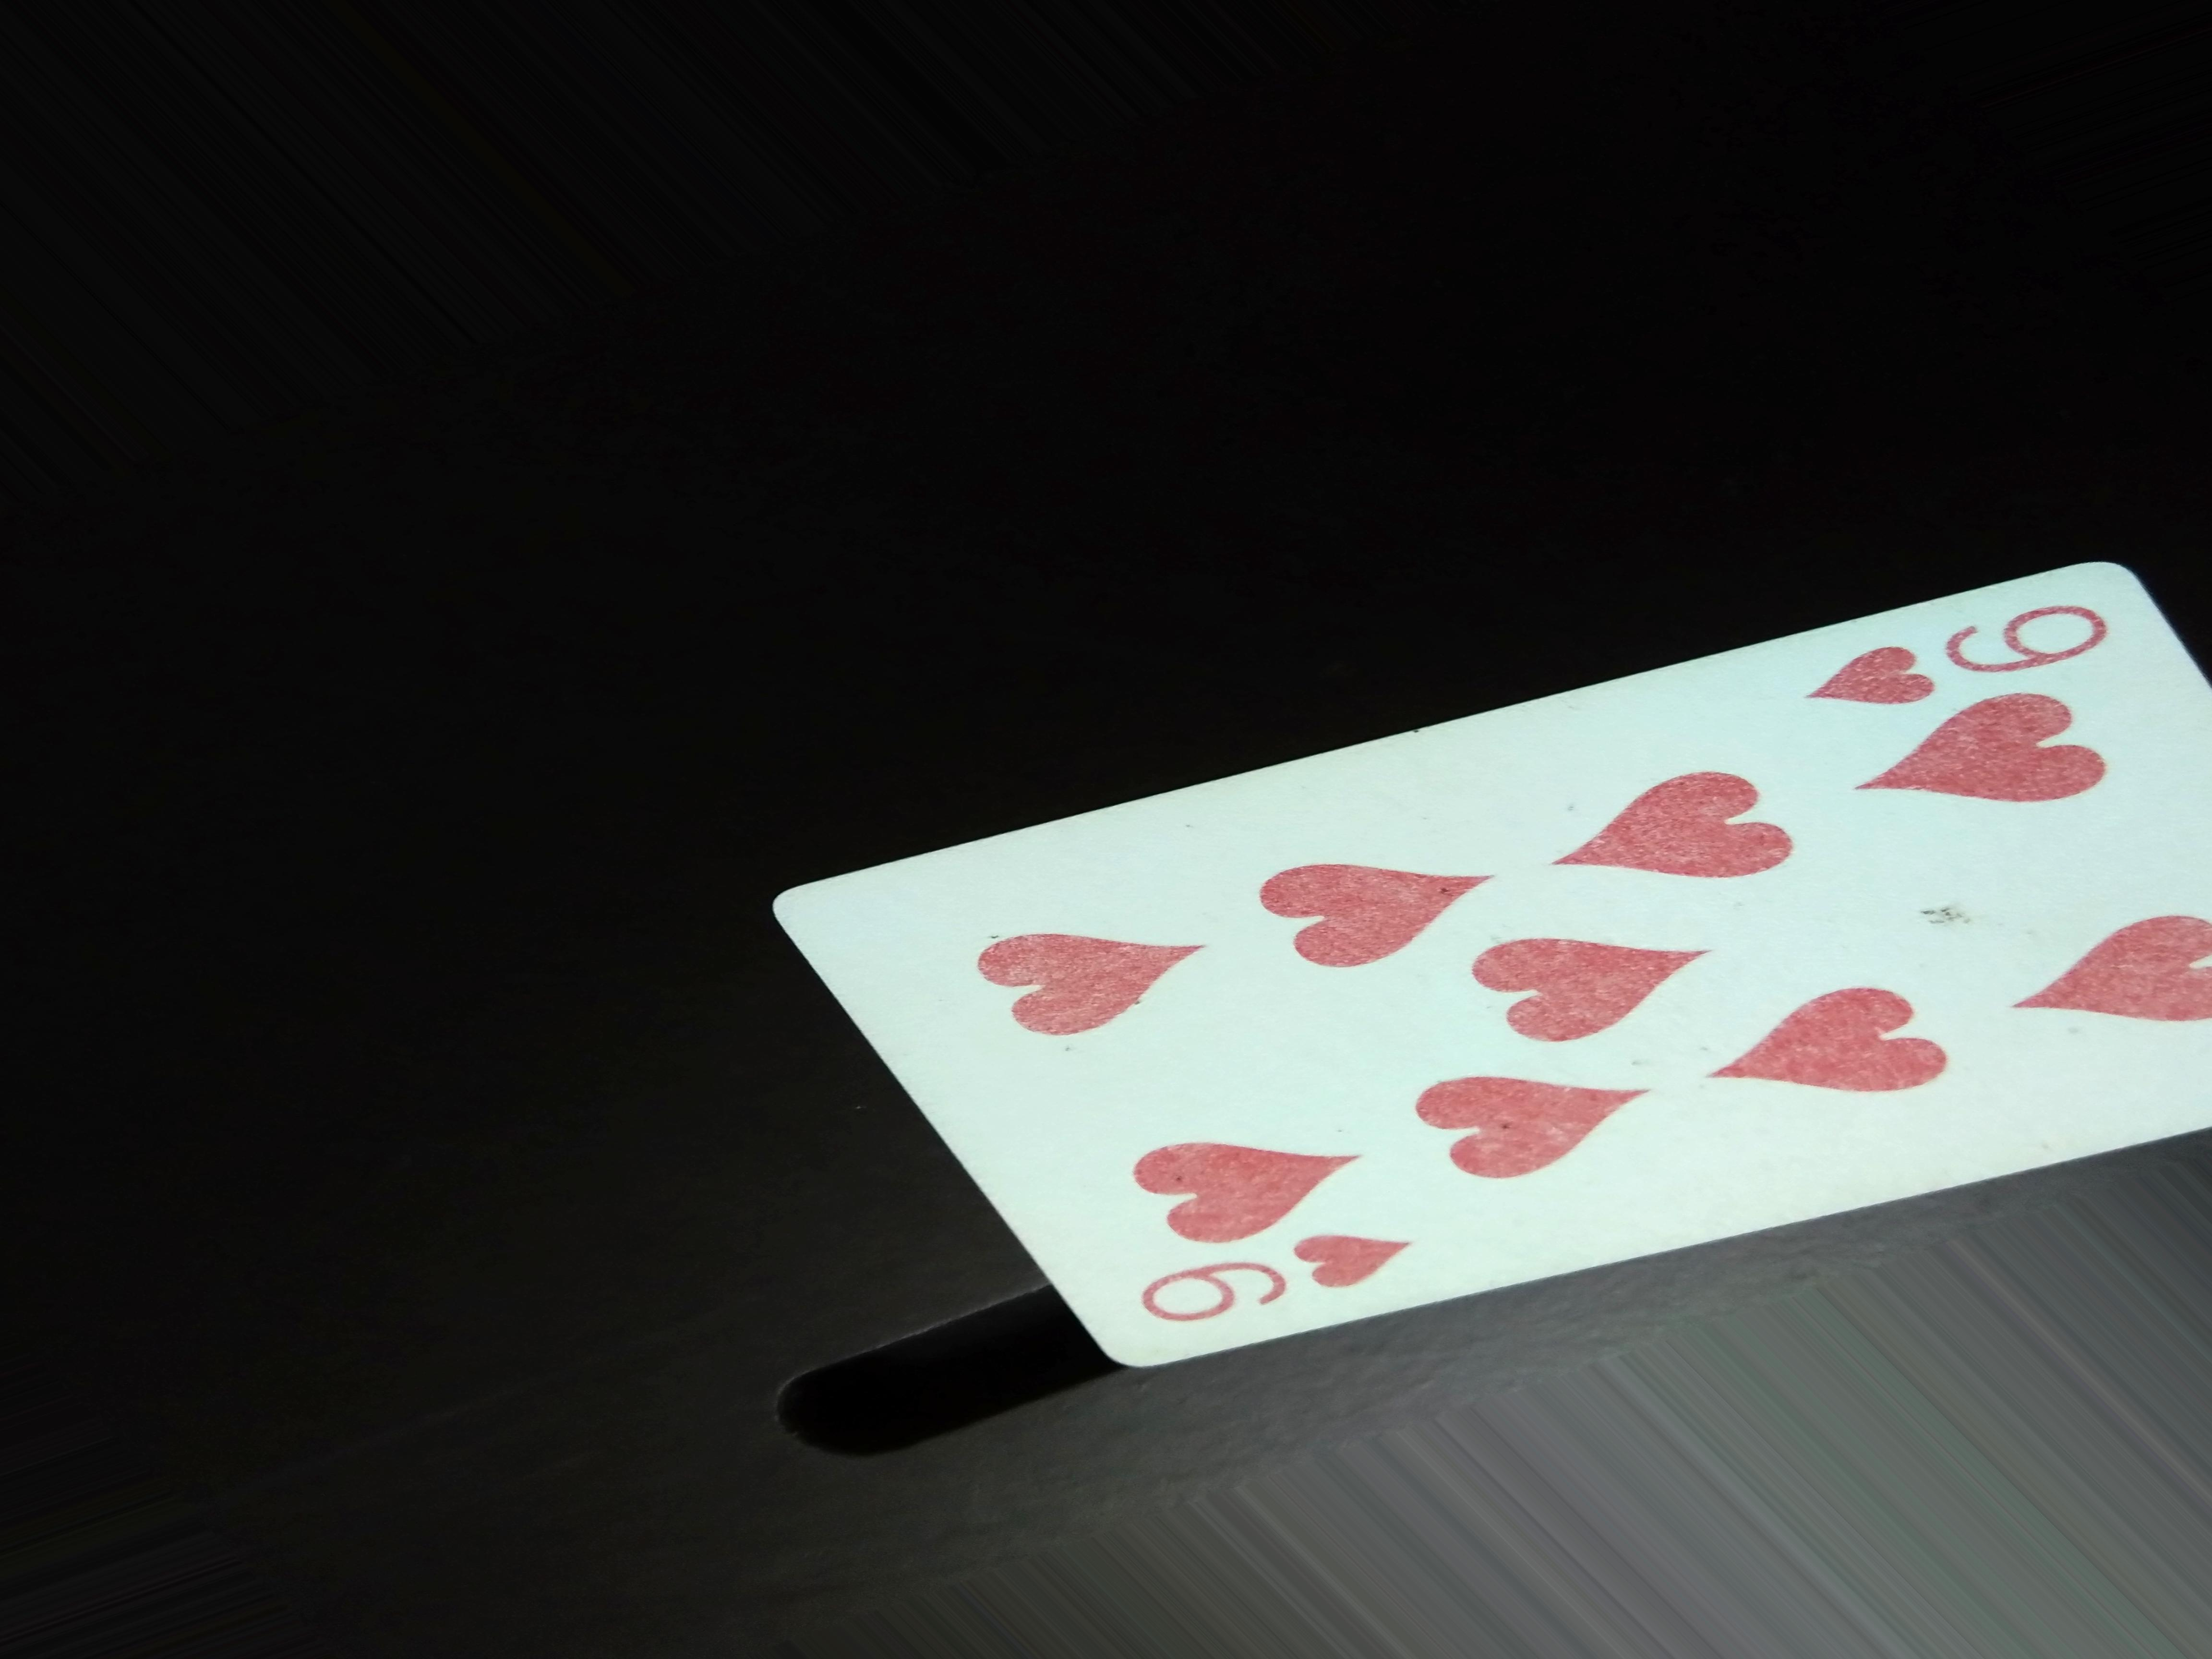9H: (1785, 577, 2120, 730)
